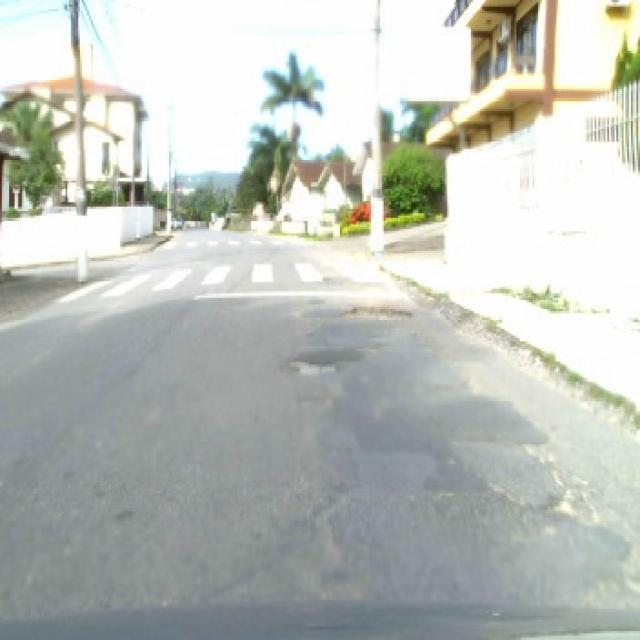Poth-hole: (498, 391, 604, 533), (333, 300, 416, 322), (280, 351, 342, 376)
